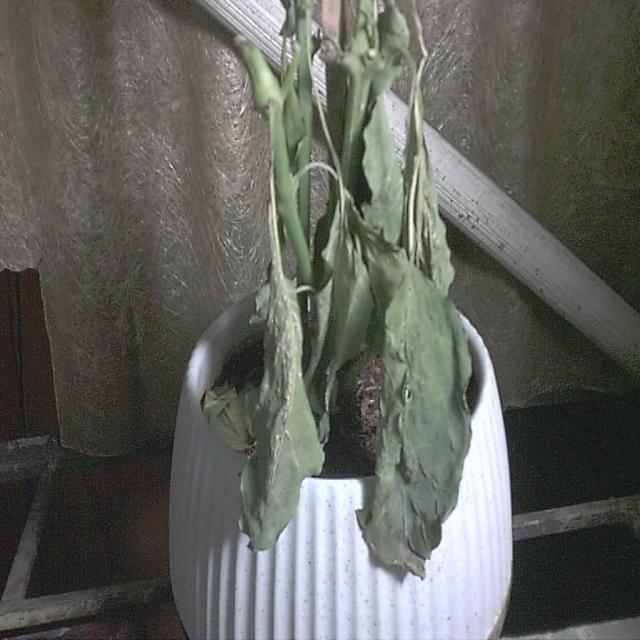Leaf: (356, 274, 474, 583)
